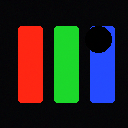2 circle: (85, 26, 111, 52)
